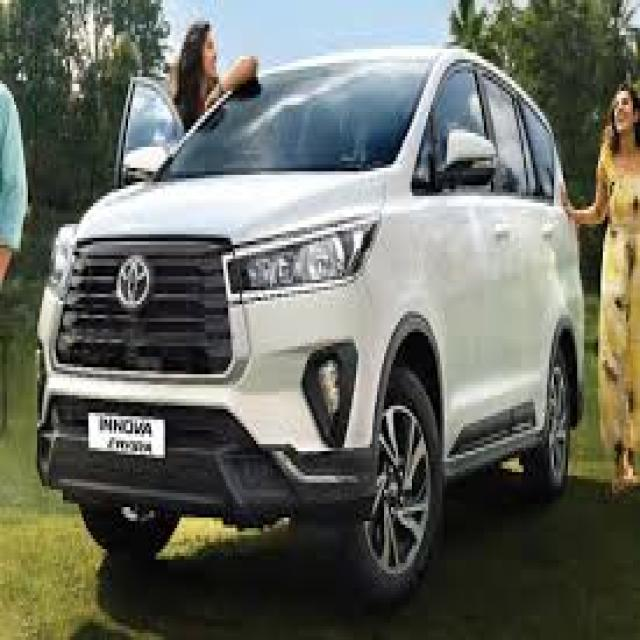light_vehicle: (35, 44, 586, 599)
